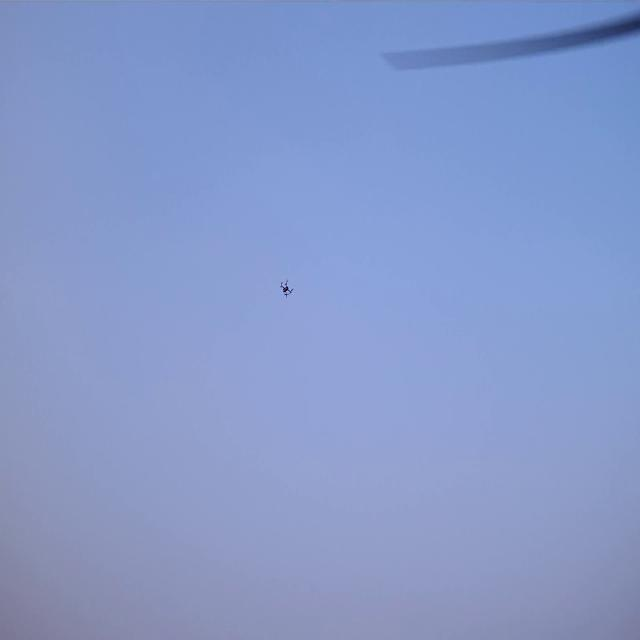UAV: (280, 278, 294, 298)
